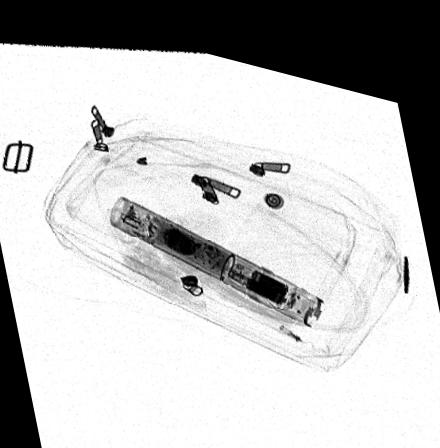Baton: (106, 187, 323, 310)
